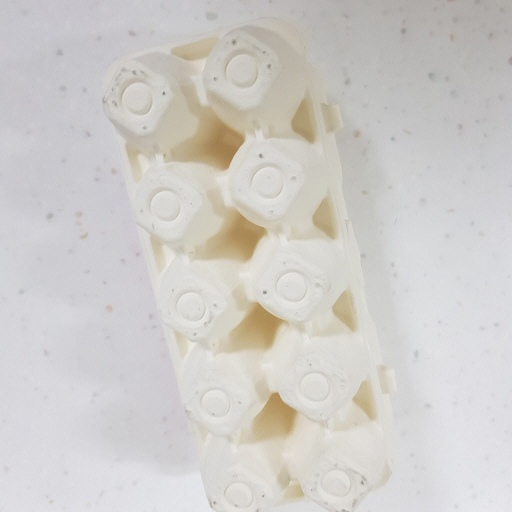Paper_0: (100, 16, 402, 512)
